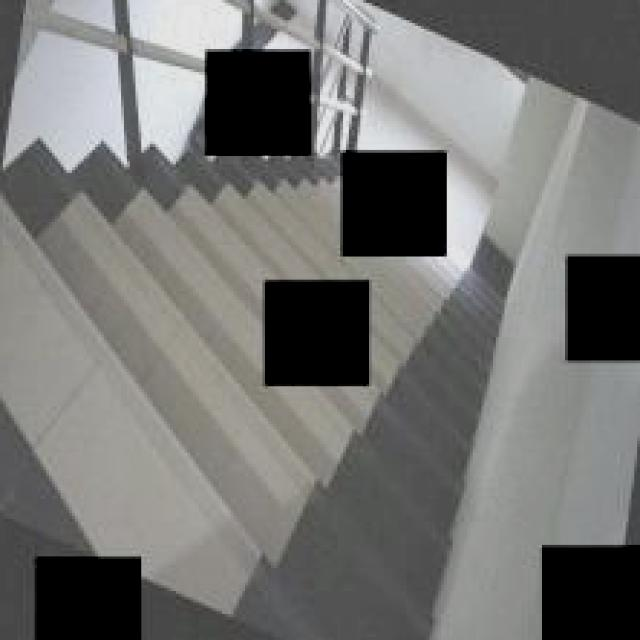downstair: (1, 185, 482, 620)
